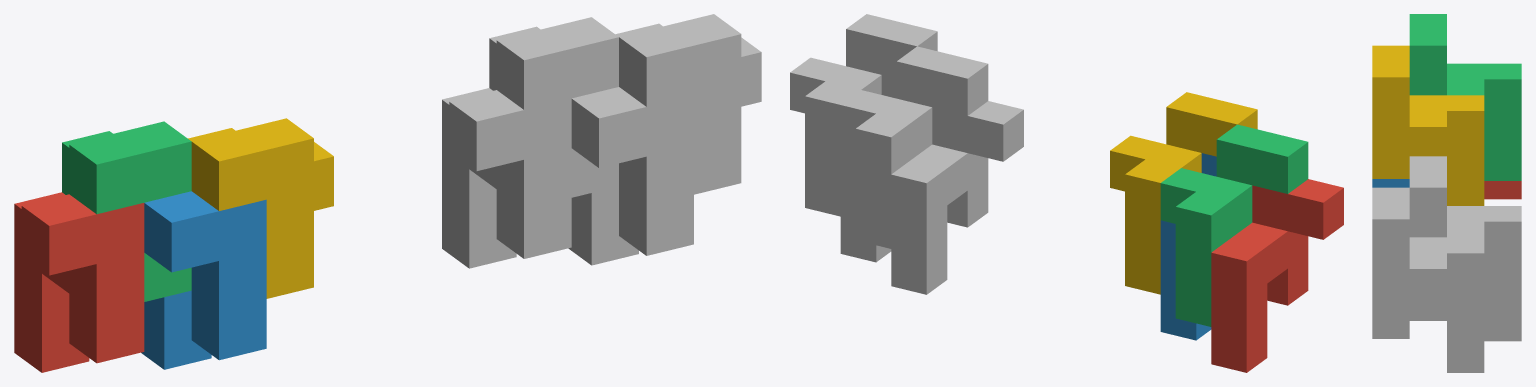
File: tiling.obj
3 renders of one model, left to right at view 1: azimuth 30°, elevation 25°; view 2: azimuth 150°, elevation 25°; view 3: azimuth 270°, elevation 25°, orthographic. The views are drawn at different scales.
Parts seen in each view (by area): view 1: copy_1_domain_1, copy_1_domain_5, copy_1_domain_2, copy_1_domain_6, copy_1_domain_4, copy_1_domain_8, copy_1_domain_7, copy_1_domain_3; view 2: copy_1_domain_1, copy_1_domain_5, copy_1_domain_3, copy_1_domain_7, copy_1_domain_4, copy_1_domain_8, copy_1_domain_2, copy_1_domain_6; view 3: copy_1_domain_8, copy_1_domain_4, copy_1_domain_3, copy_1_domain_7, copy_1_domain_6, copy_1_domain_1, copy_1_domain_5, copy_1_domain_2.
Part boxes in pixels (x1,y1,x2,y2): copy_1_domain_1: (14,192,144,372); copy_1_domain_5: (442,88,571,268); copy_1_domain_2: (141,191,266,369); copy_1_domain_6: (568,87,693,265); copy_1_domain_4: (188,118,333,298); copy_1_domain_8: (615,14,761,194); copy_1_domain_7: (489,17,618,197); copy_1_domain_3: (62,121,191,301); copy_1_domain_1: (1211,179,1343,372); copy_1_domain_5: (891,101,1023,294); copy_1_domain_3: (1160,124,1308,326); copy_1_domain_7: (840,46,988,248); copy_1_domain_4: (1110,92,1257,294); copy_1_domain_8: (790,14,937,216); copy_1_domain_2: (1160,153,1216,340); copy_1_domain_6: (840,75,896,262); copy_1_domain_8: (1372,187,1484,354); copy_1_domain_4: (1372,45,1484,205); copy_1_domain_3: (1409,14,1521,180); copy_1_domain_7: (1409,156,1521,323); copy_1_domain_6: (1372,303,1484,372); copy_1_domain_1: (1484,181,1521,199); copy_1_domain_5: (1484,323,1521,341); copy_1_domain_2: (1372,179,1409,187).
Bounding box in the file's own units: 15 × 5 × 4.
